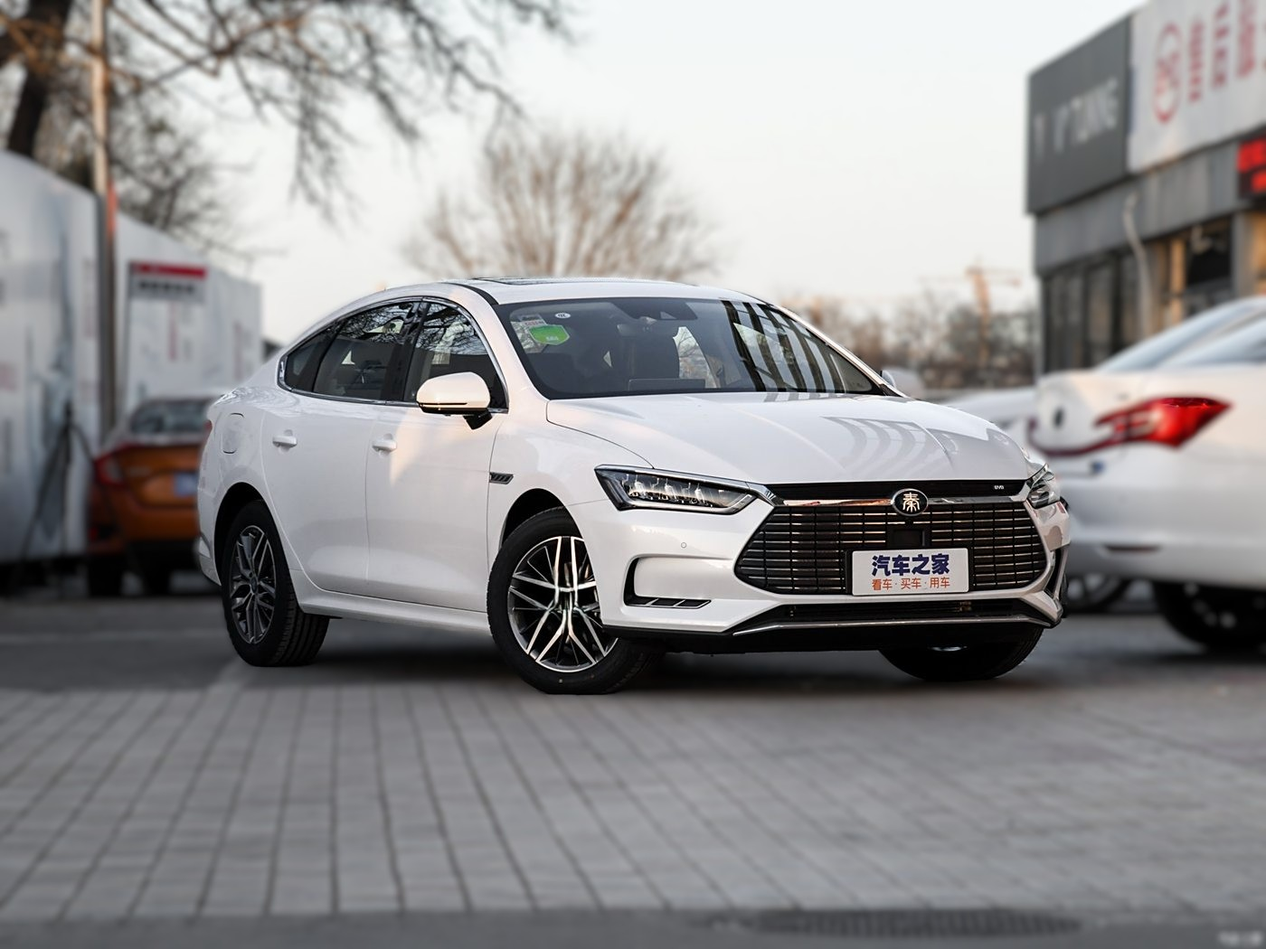BYD Qin: (893, 489, 928, 515)
